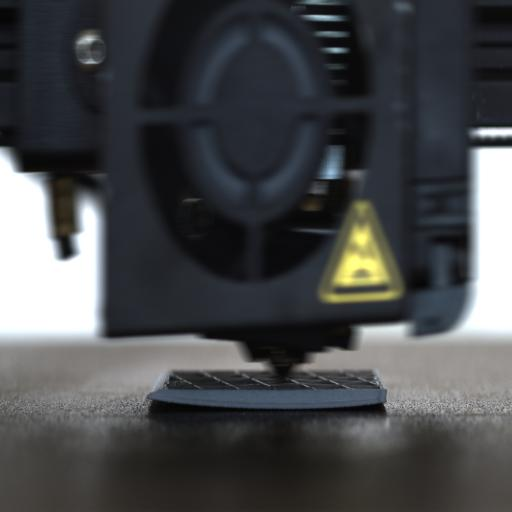warp: (345, 390, 388, 414), (142, 384, 175, 408)
